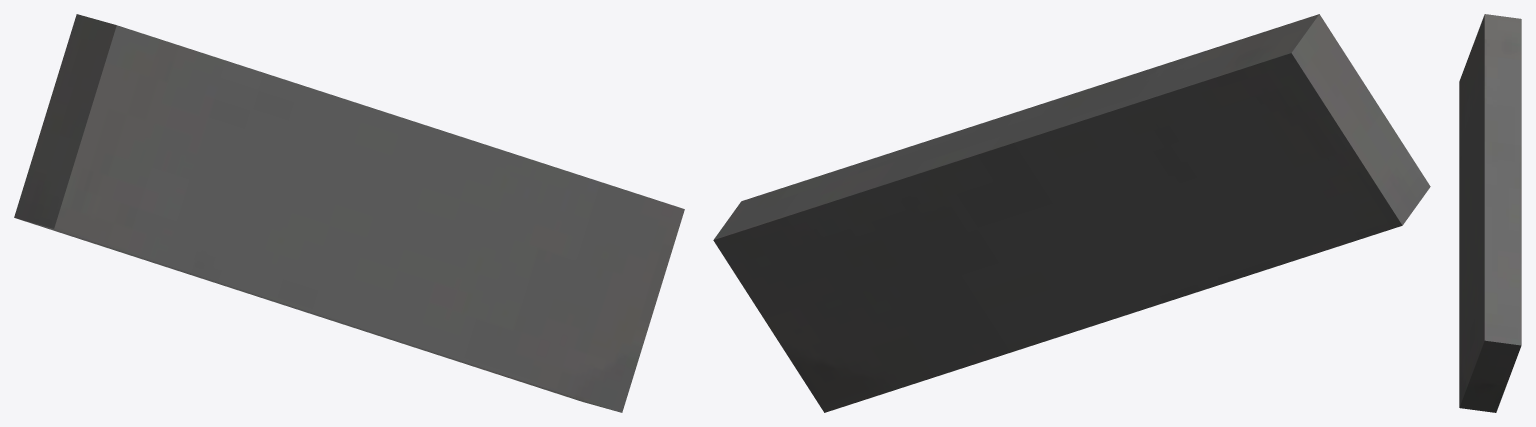
File: fan_center__blade_3.glb
3 renders of one model, left to right at view 1: azimuth 30°, elevation 25°; view 2: azimuth 150°, elevation 25°; view 3: azimuth 270°, elevation 25°, orthographic. The views are drawn at different scales.
Parts seen in each view (by area): view 1: world; view 2: world; view 3: world.
Part boxes in pixels (x1,y1,x2,y2): world: (14, 14, 684, 412); world: (713, 14, 1430, 412); world: (1459, 14, 1521, 412).
Size of the model in its own units: 0.0286 by 0.0207 by 0.00428.
1 material, 1 textured.
